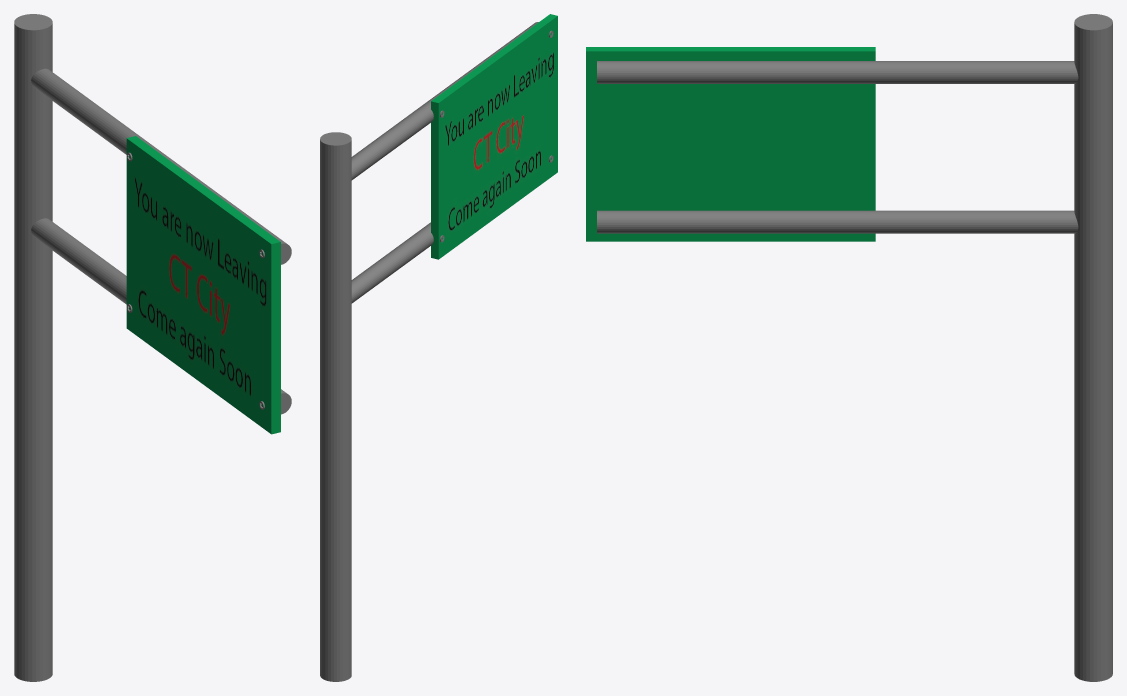
File: SignCity.glb
3 renders of one model, left to right at view 1: azimuth 30°, elevation 25°; view 2: azimuth 150°, elevation 25°; view 3: azimuth 270°, elevation 25°, orthographic. The views are drawn at different scales.
Visible parts, largest first — view 1: Sign; view 2: Sign; view 3: Sign.
Boxes of the visible parts, x1,y1,x2,y2 form: Sign: [14, 14, 291, 681]; Sign: [320, 14, 557, 681]; Sign: [586, 14, 1112, 681].
Bounding box in the file's own units: 0.4877 × 8.98 × 6.58.
Materials: 2 (1 with a texture image).
